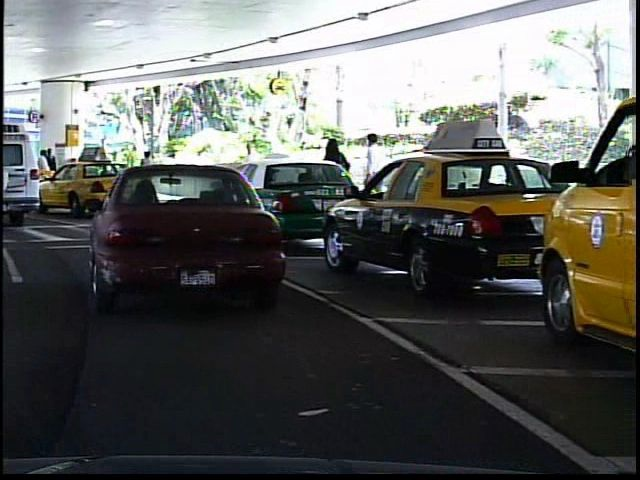person: (314, 132, 349, 231), (356, 129, 388, 226), (234, 137, 263, 207), (130, 145, 157, 198), (43, 145, 59, 198), (34, 146, 49, 198)
